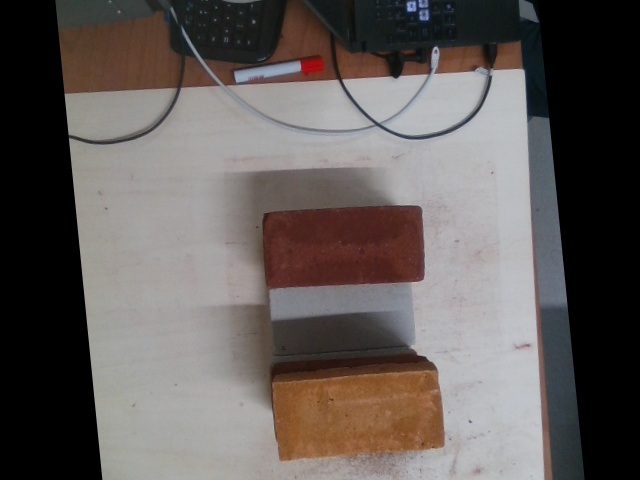brick: (271, 370, 442, 462), (265, 205, 421, 286), (268, 282, 414, 355)
